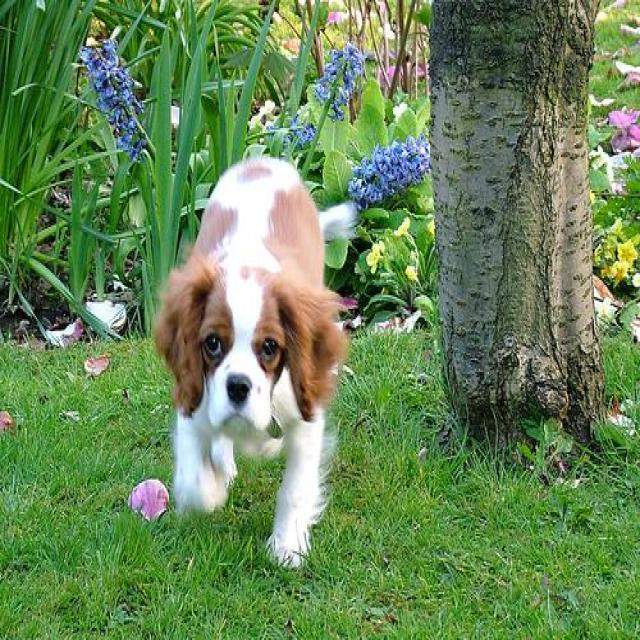blenheim_spaniel: (153, 157, 350, 570)
